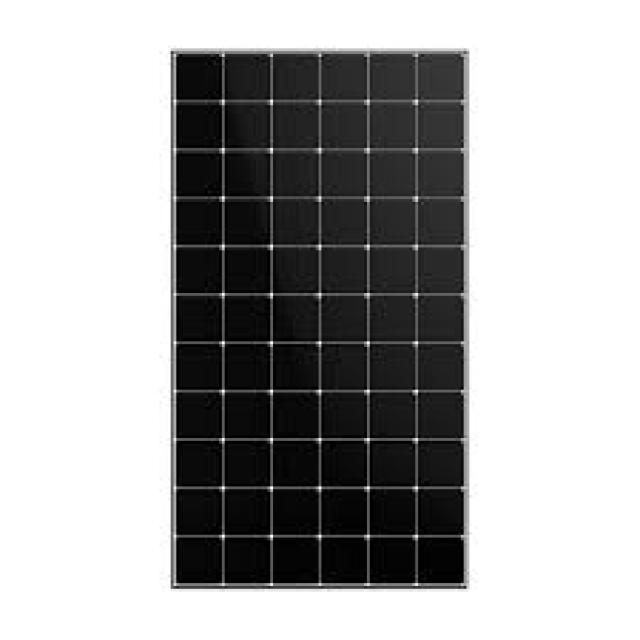no faulty: (177, 52, 476, 598)
